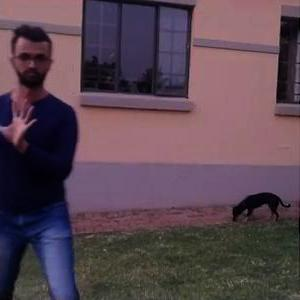follow_hand: (1, 89, 42, 159)
